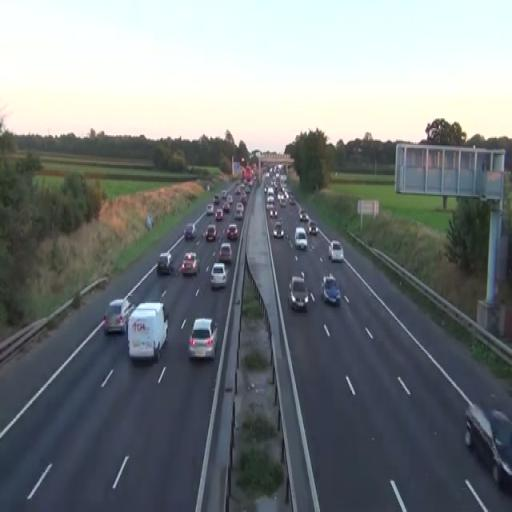Car: (464, 402, 512, 494), (188, 318, 218, 360), (104, 297, 133, 334), (288, 272, 309, 312), (321, 276, 341, 306), (210, 262, 228, 290), (179, 252, 199, 276), (216, 242, 232, 266), (328, 240, 344, 263), (294, 227, 308, 251), (205, 224, 217, 242), (226, 224, 238, 241), (273, 222, 284, 239)
Truck: (128, 301, 168, 363)
